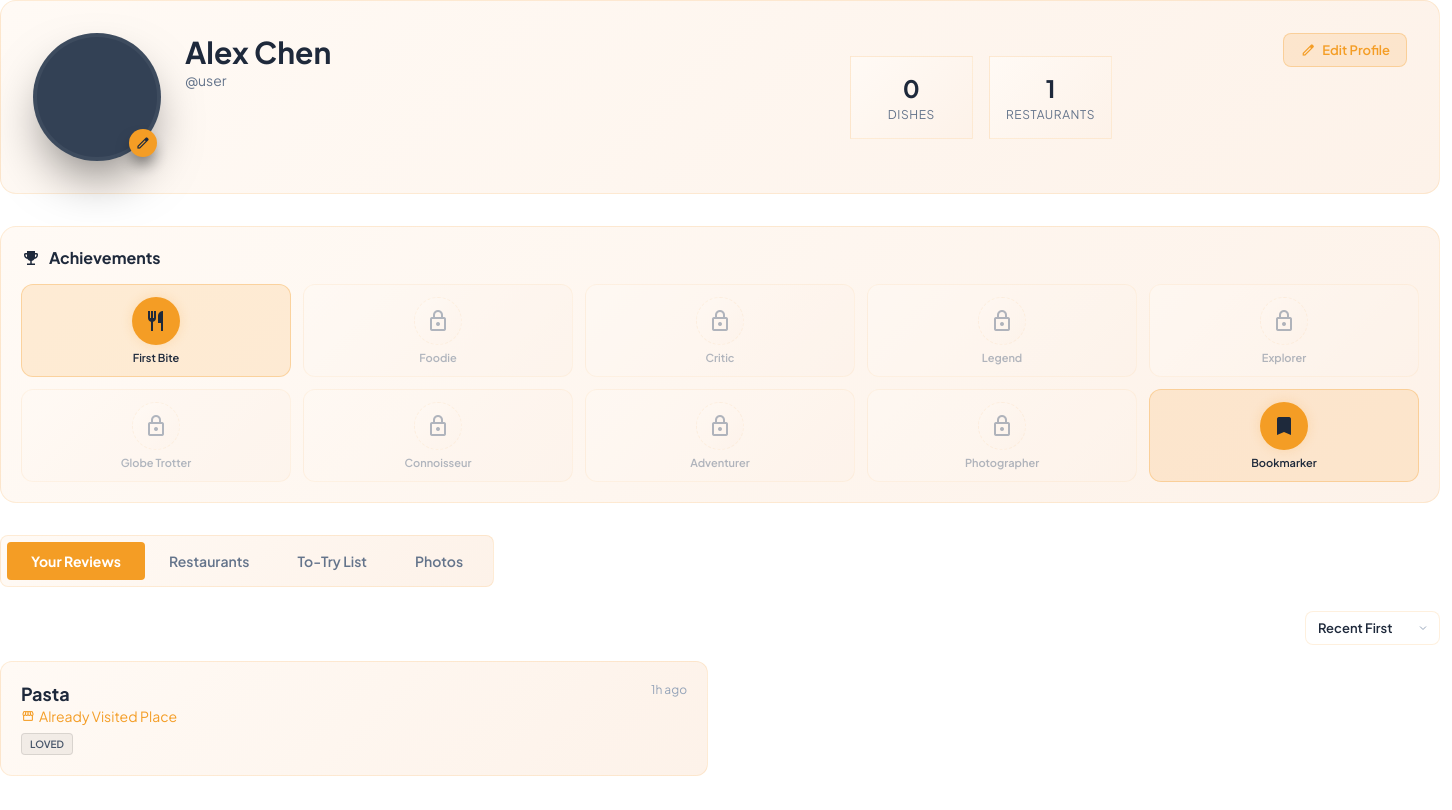
Profile — To-Try List › does NOT show saved restaurants that the user has already reviewed
This screenshot has width=1452, height=810.
Click the button "To-Try List".
click(332, 561)  # box x1=274 y1=542 x2=391 y2=580
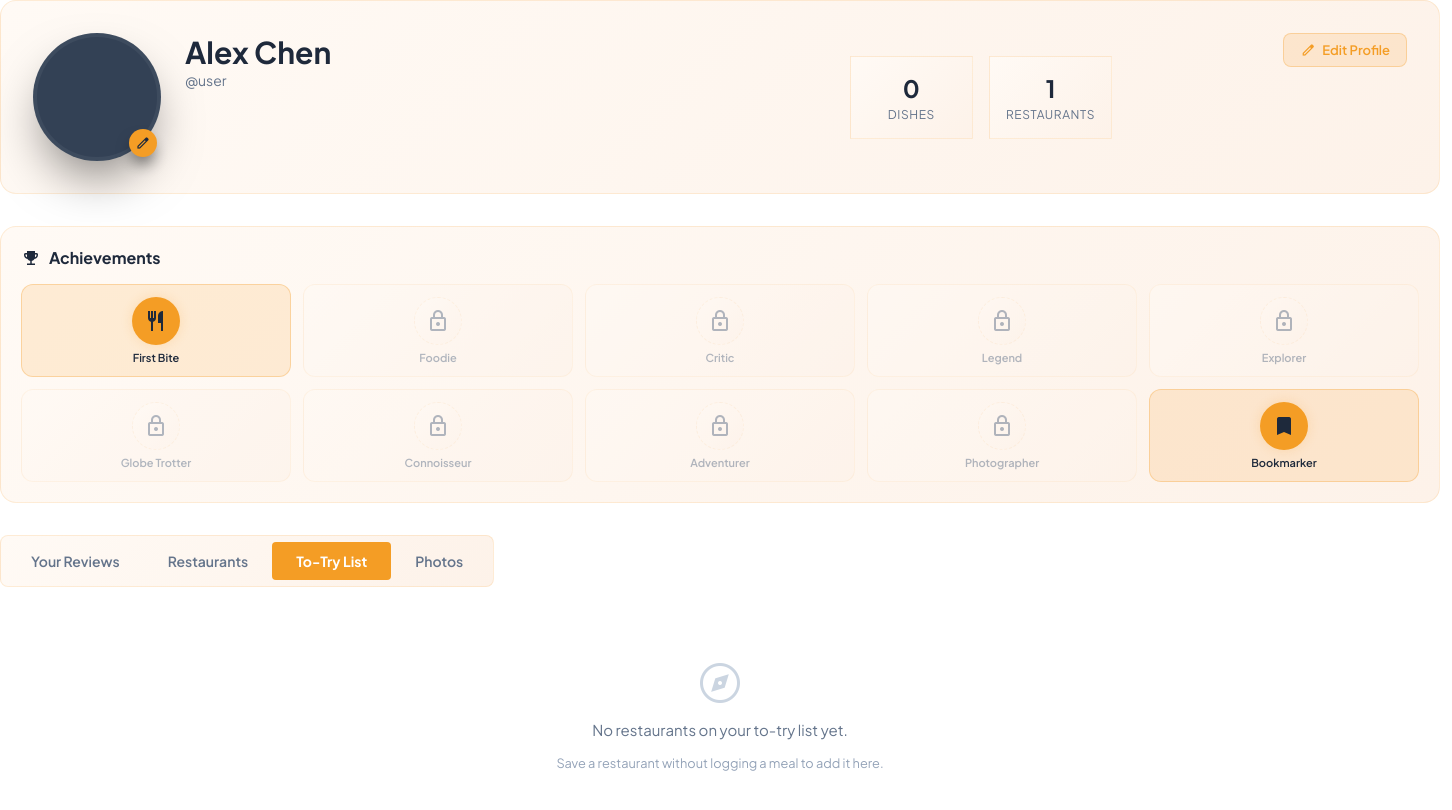
Check: the link "Already Visited Place" is gone
Check: the text "No restaurants on your to-try list yet." is shown, box x1=592 y1=719 x2=848 y2=742
